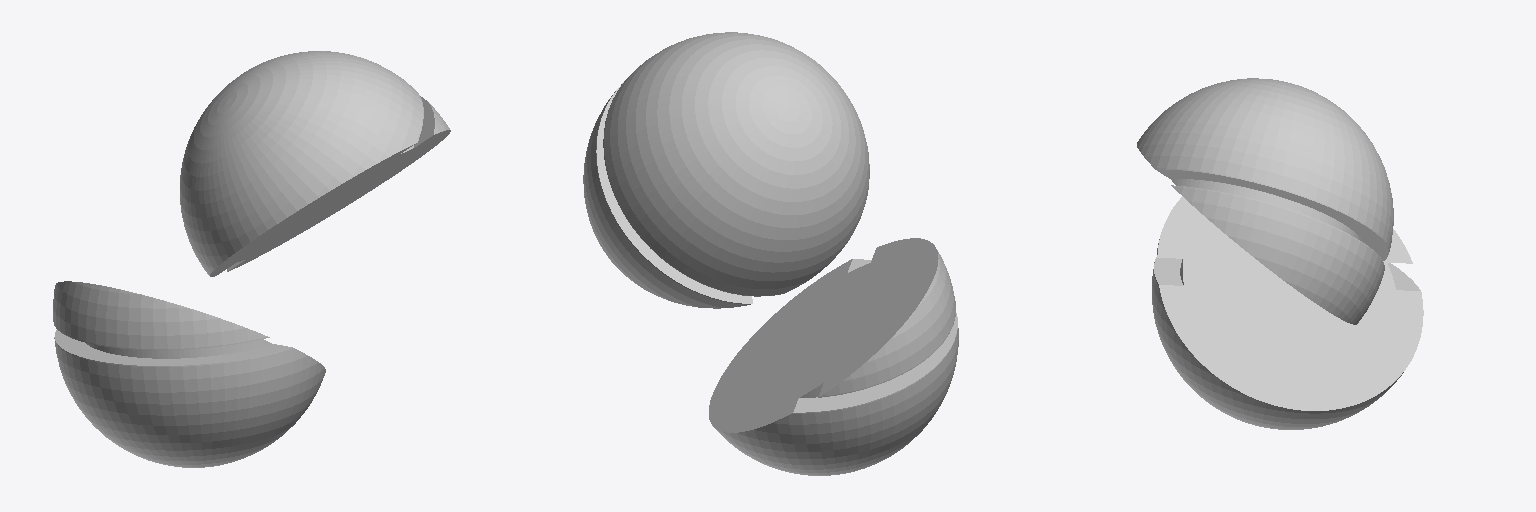
Rendered from Drone166_000008.obj.
The picture shows the model from 3 angles: view 1: azimuth 30°, elevation 25°; view 2: azimuth 150°, elevation 25°; view 3: azimuth 270°, elevation 25°; orthographic projection.
Visible parts, largest first — view 1: Sphere.001, Sphere.000_Sphere.002; view 2: Sphere.001, Sphere.000_Sphere.002; view 3: Sphere.001, Sphere.000_Sphere.002.
Boxes of the visible parts, x1=… form: Sphere.001: x1=180, y1=51, x2=450, y2=276; Sphere.000_Sphere.002: x1=53, y1=281, x2=325, y2=467; Sphere.001: x1=583, y1=32, x2=869, y2=308; Sphere.000_Sphere.002: x1=709, y1=238, x2=958, y2=475; Sphere.001: x1=1137, y1=78, x2=1393, y2=324; Sphere.000_Sphere.002: x1=1152, y1=196, x2=1423, y2=429.
Size of the model in its own units: 2.94 by 2.99 by 2.06.